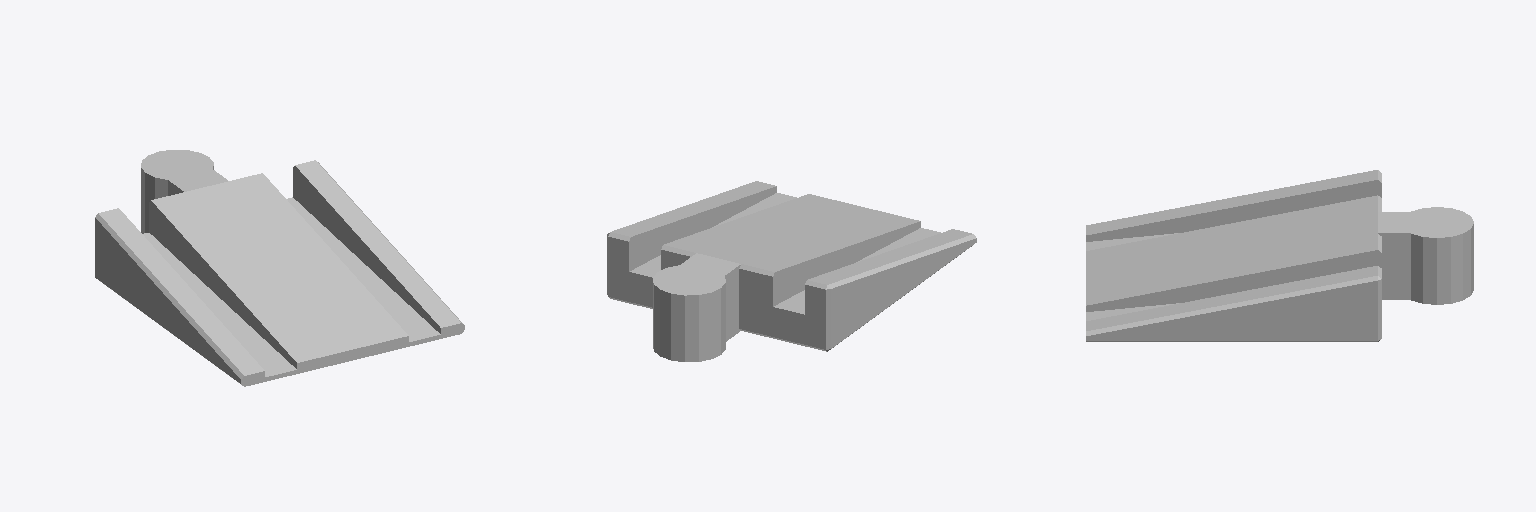
The model's file is train_track_ramp.obj.
3 renders of one model, left to right at view 1: azimuth 30°, elevation 25°; view 2: azimuth 150°, elevation 25°; view 3: azimuth 270°, elevation 25°, orthographic.
Parts seen in each view (by area): view 1: Straight_Track_Ramp_Final; view 2: Straight_Track_Ramp_Final; view 3: Straight_Track_Ramp_Final.
Part boxes in pixels (bbox=[...]): Straight_Track_Ramp_Final: bbox=[95, 150, 464, 386]; Straight_Track_Ramp_Final: bbox=[607, 181, 976, 361]; Straight_Track_Ramp_Final: bbox=[1086, 170, 1473, 341].
Bounding box in the file's own units: 0.7 × 0.2 × 1.05.